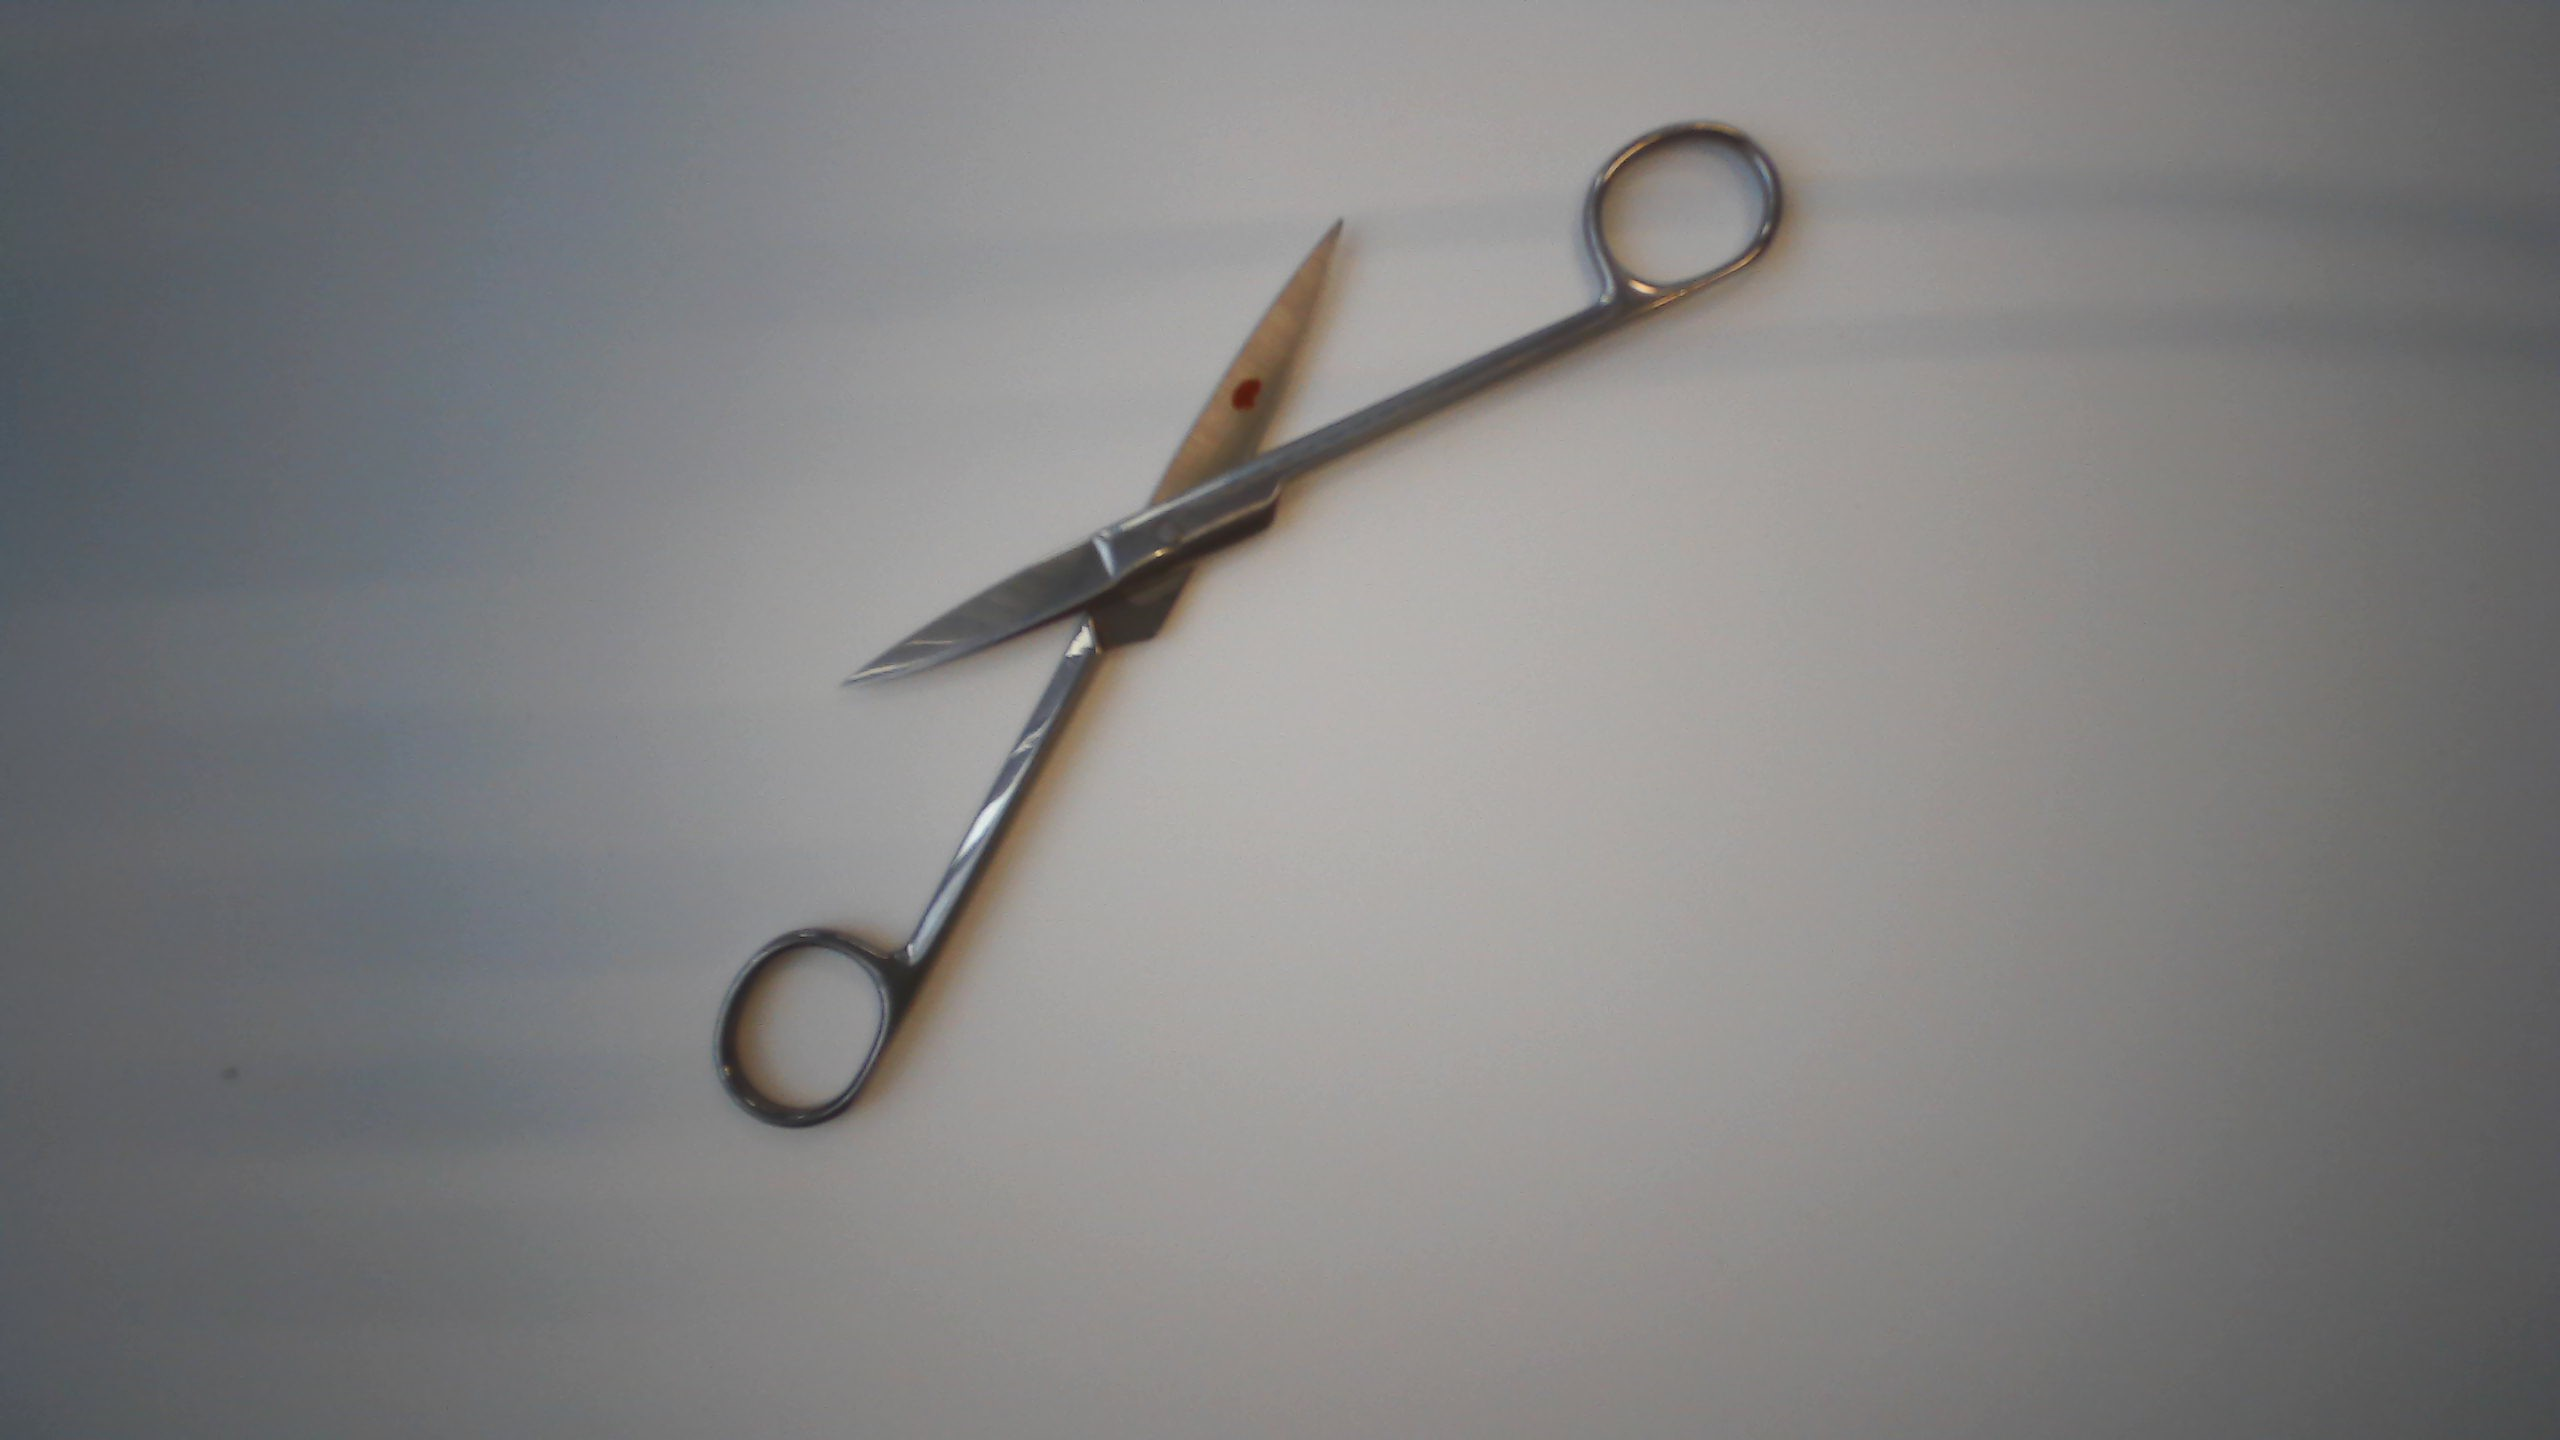Stain: (1224, 371, 1276, 420)
